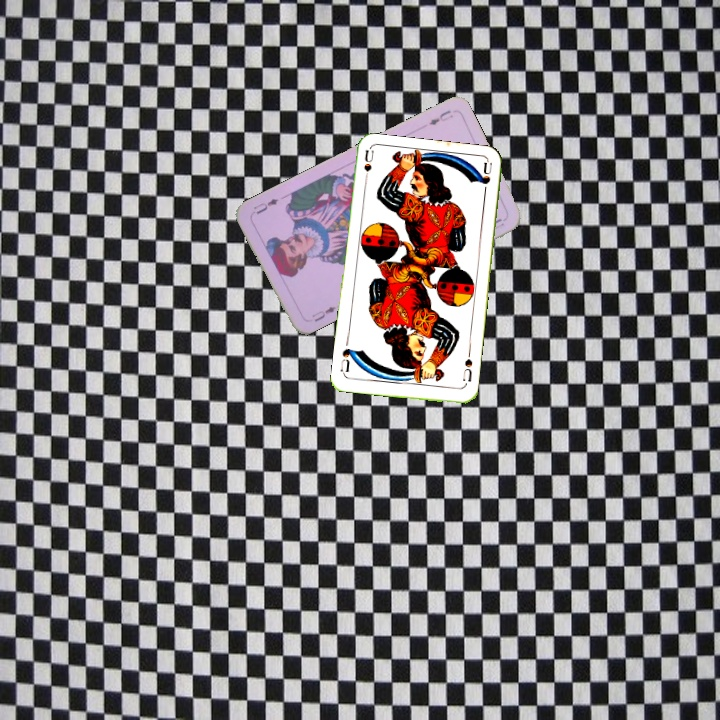EU: (308, 302, 339, 324), (425, 106, 455, 128)
SU: (360, 147, 376, 188), (459, 355, 475, 384)
